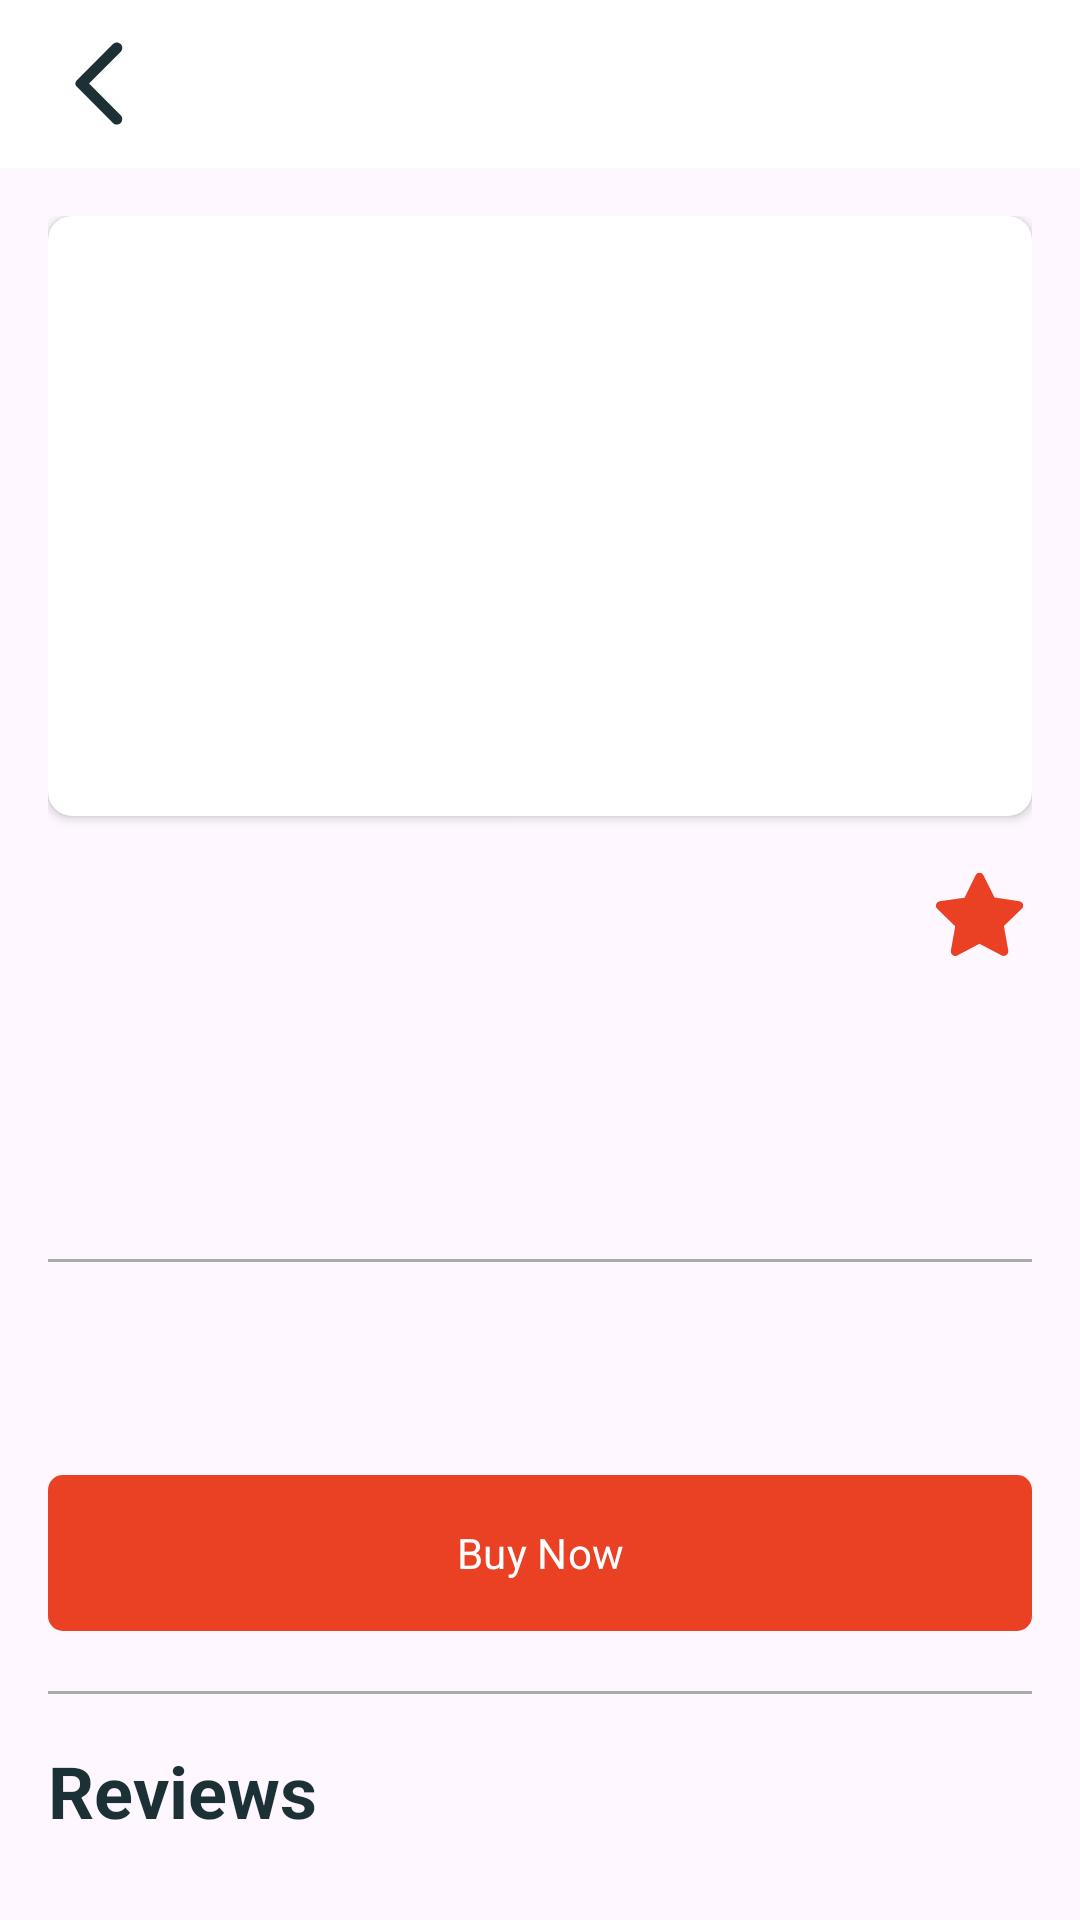

Icons on this 1080×1920 Android screen, each with the point to tap as (x,y):
back arrow: (99,83)
star: (980,914)
